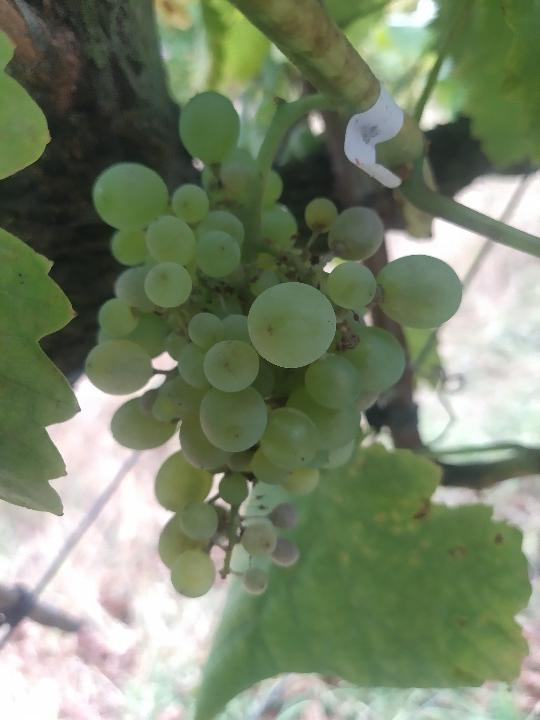grape: (87, 89, 466, 603)
